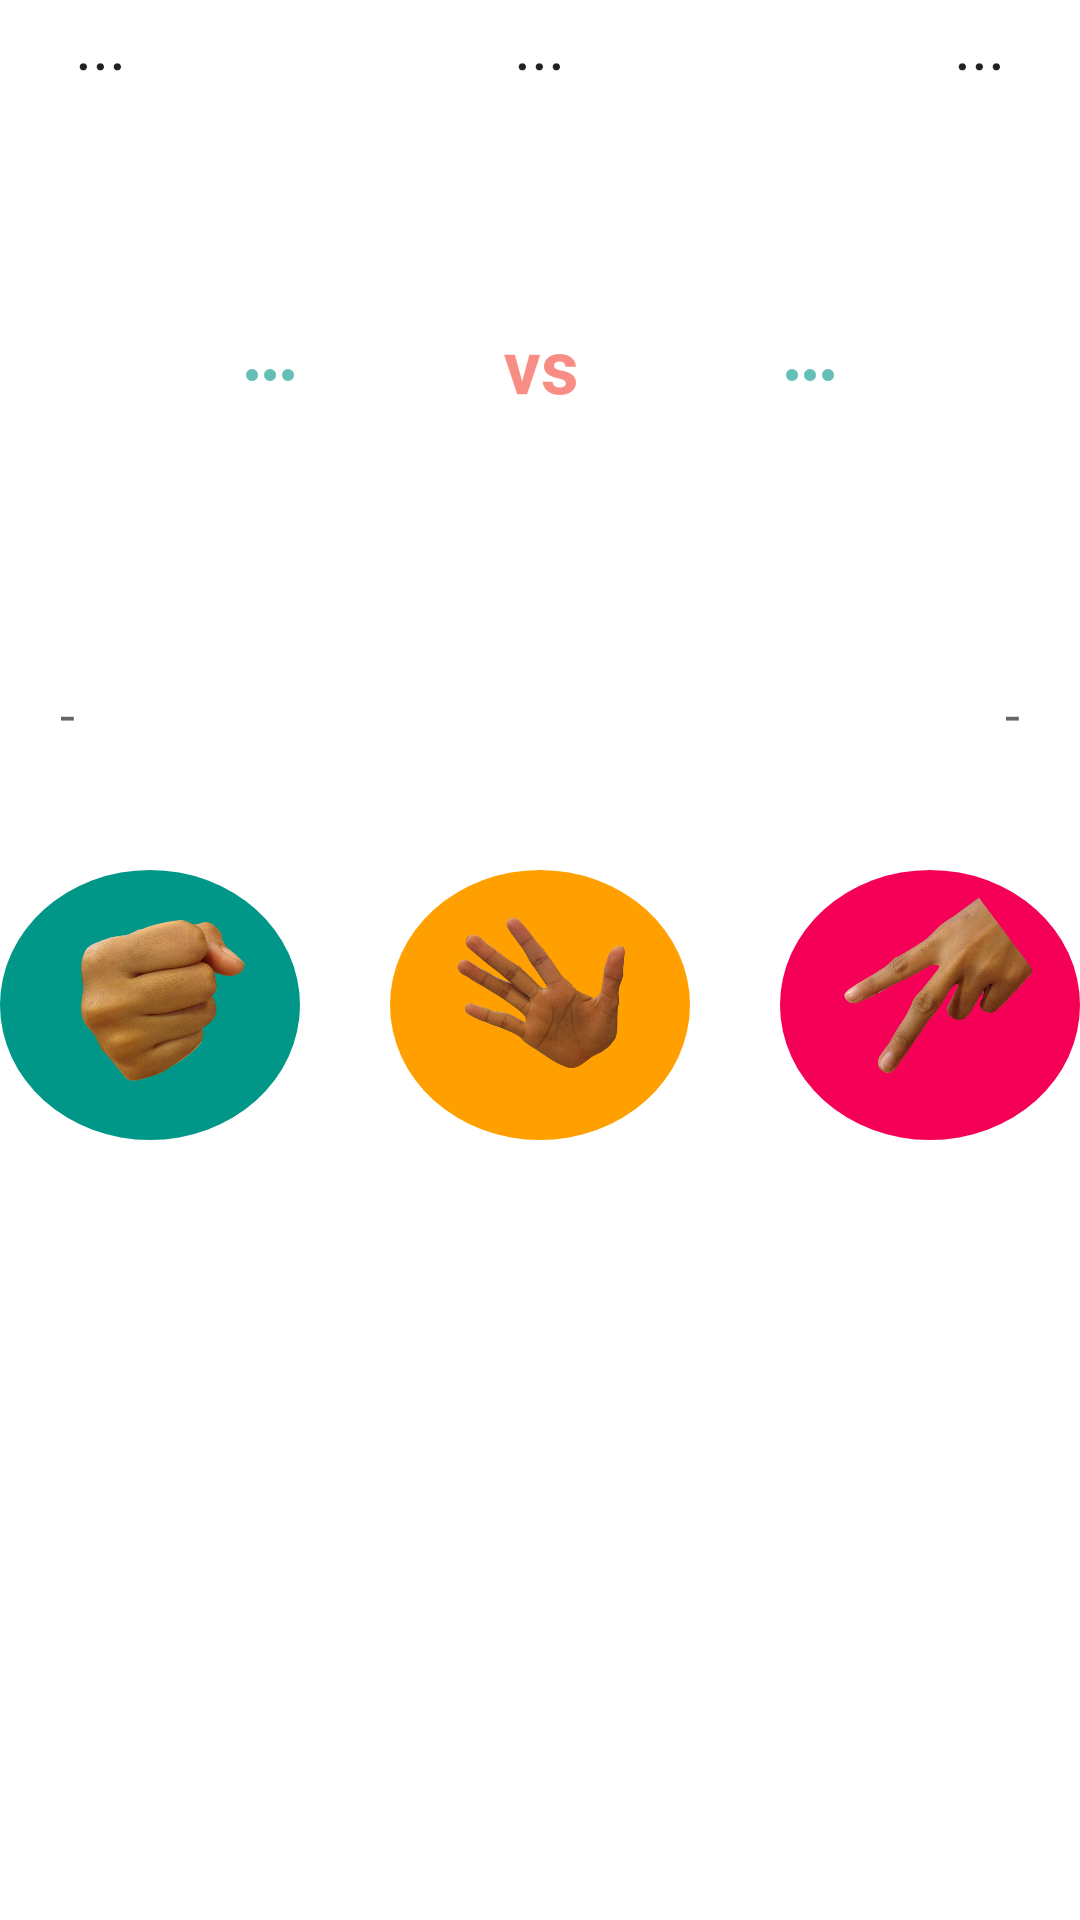

Where to tap for icons on this 1080 × 1920 app screen, as (x=x, y=y):
paper: (x=540, y=1005)
rock: (x=150, y=1005)
scissors: (x=930, y=1005)
